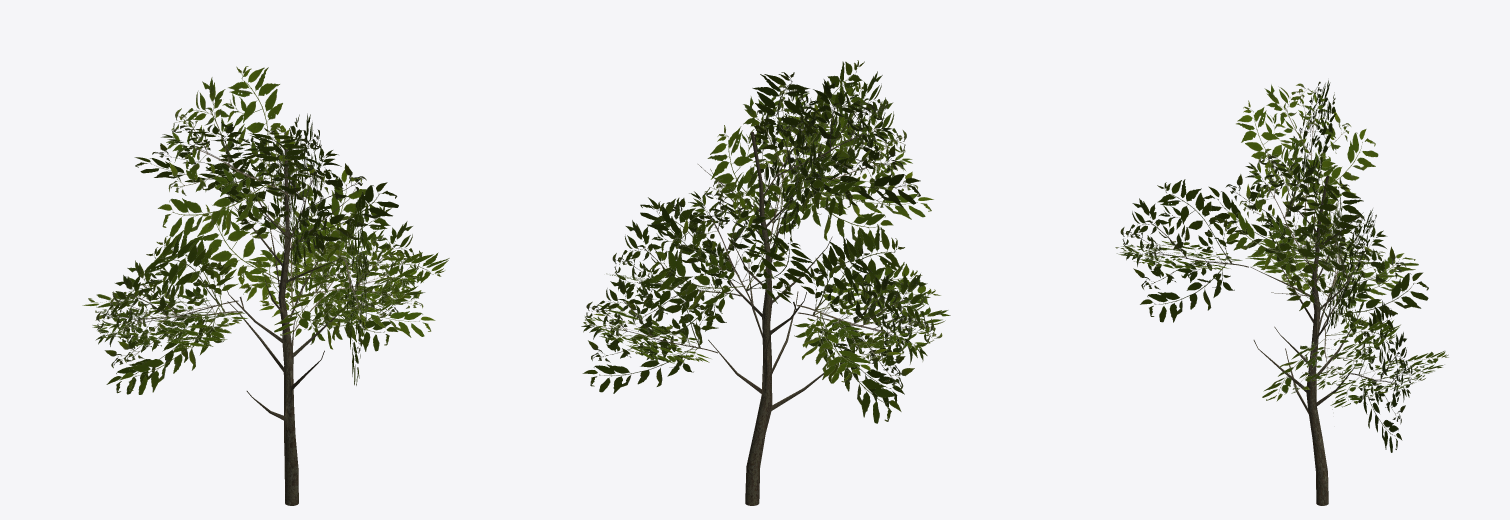
File: Sapling.fbx
The picture shows the model from 3 angles, left to right: view 1: azimuth 30°, elevation 25°; view 2: azimuth 150°, elevation 25°; view 3: azimuth 270°, elevation 25°; orthographic projection. The views are drawn at different scales.
Visible parts, largest first — view 1: Sapling; view 2: Sapling; view 3: Sapling.
Boxes of the visible parts, x1,y1,x2,y2 form: Sapling: (82,66,449,505); Sapling: (581,60,950,505); Sapling: (1115,80,1448,505).
Size of the model in its own units: 407 by 474 by 425.
